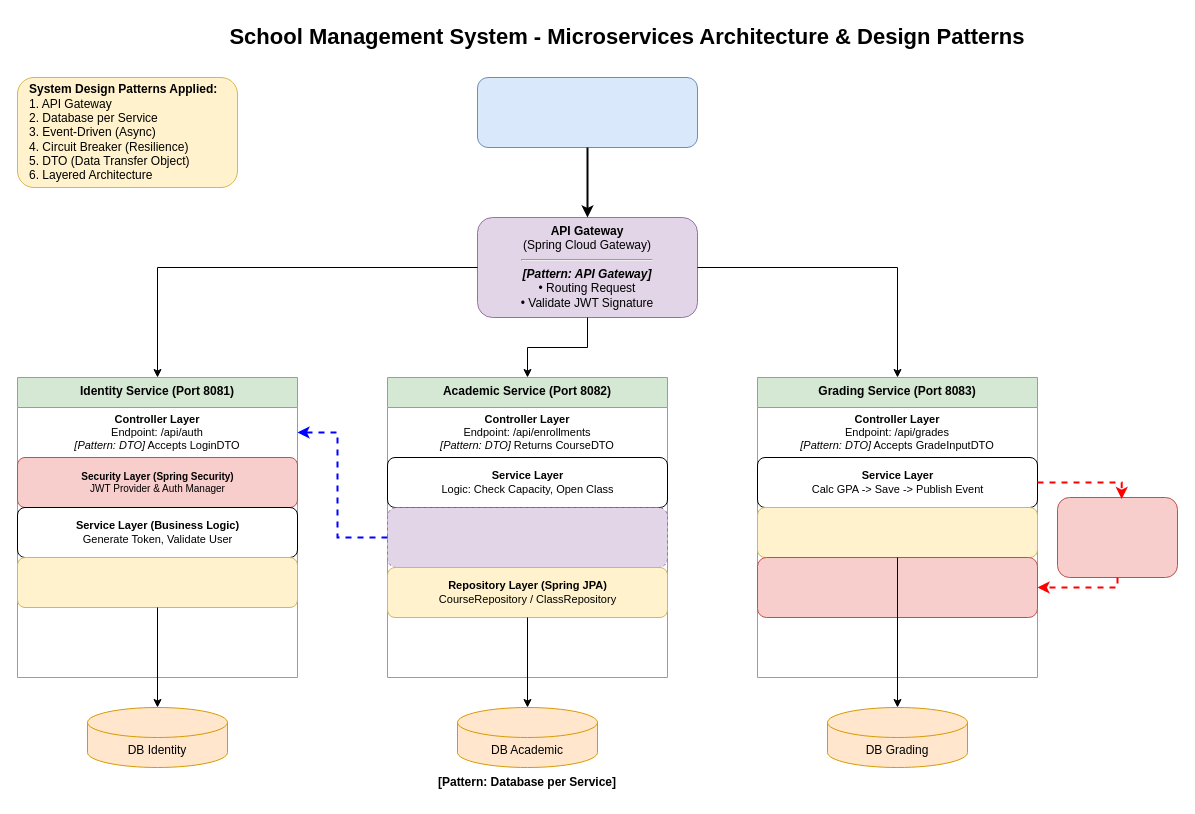
The diagram is 1195 pixels wide and 814 high, and some of its shapes have lost their labels. Here are the shapes that lost their labels. From the top down, the centre of each, then its label:
the point at 587,112: Frontend (ReactJS) Local Storage: JWT Auth Header: Bearer Token
the point at 527,537: OpenFeign Client [Pattern: Circuit Breaker] Sync call to Identity Service
the point at 897,532: Repository Layer (Spring JPA) GradeRepository
the point at 1117,537: RabbitMQ Broker [Pattern: Event-Driven]
the point at 157,582: Repository Layer (Spring JPA) Interface UserRepository
the point at 897,587: Event Consumer Listens to RabbitMQ Saves to Notification Table
